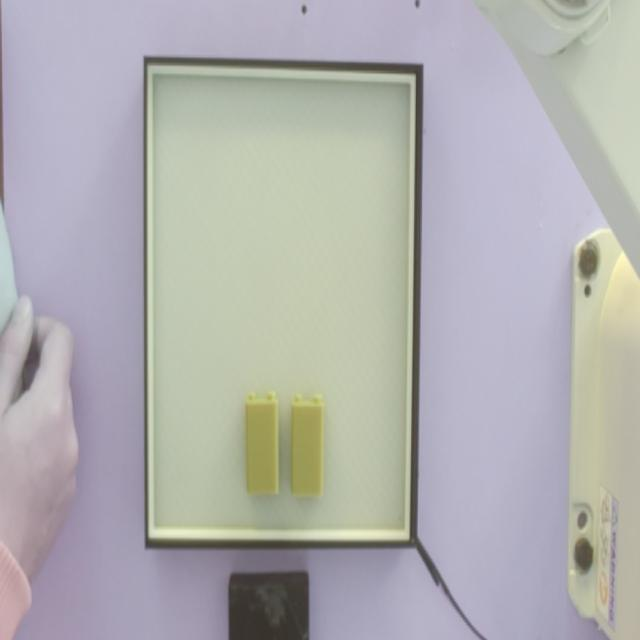bateria: (291, 395, 324, 498), (246, 392, 278, 494)
mesa: (144, 57, 423, 549)
